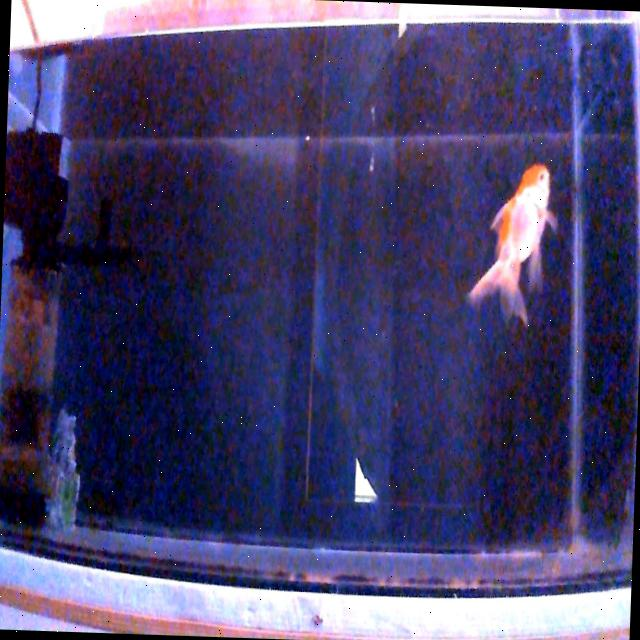fish: (463, 157, 562, 331)
